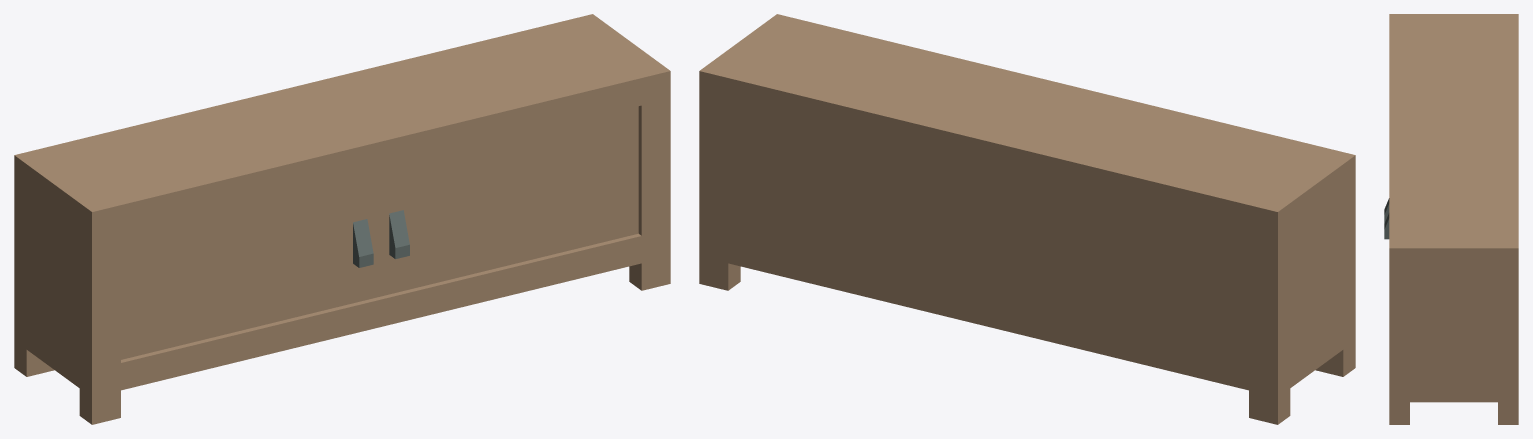
File: tv_console.glb
The picture shows the model from 3 angles, left to right: view 1: azimuth 30°, elevation 25°; view 2: azimuth 150°, elevation 25°; view 3: azimuth 270°, elevation 25°; orthographic projection. The views are drawn at different scales.
Parts seen in each view (by area): view 1: cabinetTelevisionDoors(Clone), doorRight, doorLeft; view 2: cabinetTelevisionDoors(Clone); view 3: cabinetTelevisionDoors(Clone).
Boxes of the visible parts, bbox=[...] form: cabinetTelevisionDoors(Clone): bbox=[14, 14, 670, 424]; doorRight: bbox=[378, 106, 638, 296]; doorLeft: bbox=[121, 170, 378, 359]; cabinetTelevisionDoors(Clone): bbox=[699, 14, 1355, 424]; cabinetTelevisionDoors(Clone): bbox=[1389, 14, 1518, 424].
Size of the model in its own units: 1.65 by 0.58 by 0.4.
